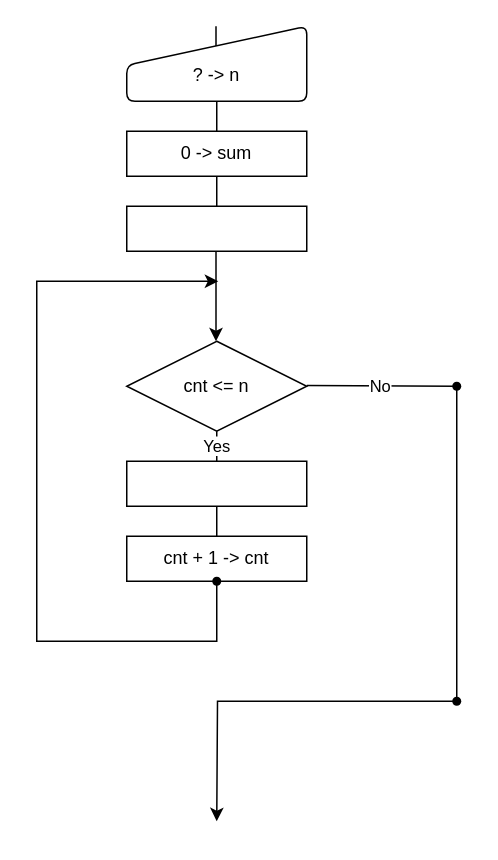
This 498x860 diagram has some shape labels left out. Here are the shapes that lost their labels. From the top down, the centre of each, then its label:
At point 216,228: "1 -> cnt".
At point 216,483: "sum + cnt -> sum".
